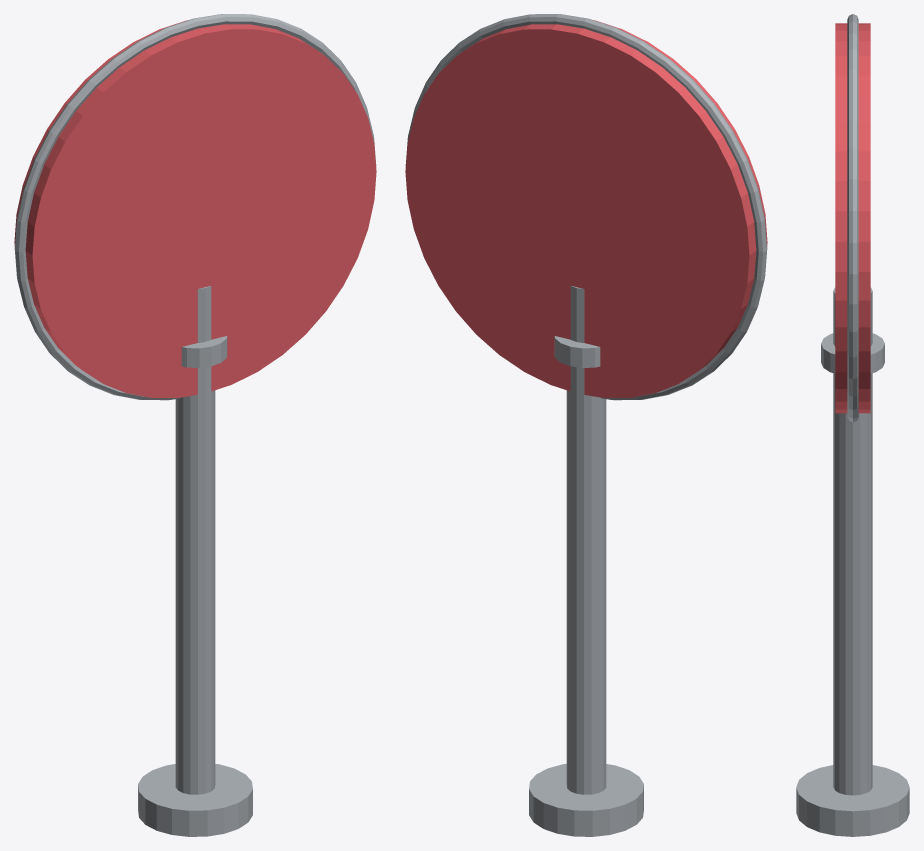
The model's file is state-fair-pin-park-and-ride-bus.glb.
3 views of the same model, side by side, from view 1: azimuth 30°, elevation 25°; view 2: azimuth 150°, elevation 25°; view 3: azimuth 270°, elevation 25° (orthographic).
Parts seen in each view (by area): view 1: SFPIN_SignDisc, SFPIN_Post, SFPIN_Rim, SFPIN_Base, SFPIN_Collar; view 2: SFPIN_SignDisc, SFPIN_Post, SFPIN_Rim, SFPIN_Base, SFPIN_Collar; view 3: SFPIN_Post, SFPIN_SignDisc, SFPIN_Base, SFPIN_Rim, SFPIN_Collar.
Part boxes in pixels (<box>): SFPIN_SignDisc: <box>14,20,376,397</box>; SFPIN_Post: <box>175,286,215,794</box>; SFPIN_Rim: <box>14,14,376,400</box>; SFPIN_Base: <box>138,764,252,836</box>; SFPIN_Collar: <box>181,336,227,367</box>; SFPIN_SignDisc: <box>405,20,767,397</box>; SFPIN_Post: <box>566,286,606,794</box>; SFPIN_Rim: <box>405,14,767,400</box>; SFPIN_Base: <box>529,764,643,836</box>; SFPIN_Collar: <box>554,336,600,367</box>; SFPIN_Post: <box>833,287,872,795</box>; SFPIN_SignDisc: <box>835,23,870,413</box>; SFPIN_Base: <box>796,765,909,836</box>; SFPIN_Rim: <box>847,14,858,422</box>; SFPIN_Collar: <box>821,333,884,373</box>.
Size of the model in its own units: 1.15 by 2.43 by 0.32.
